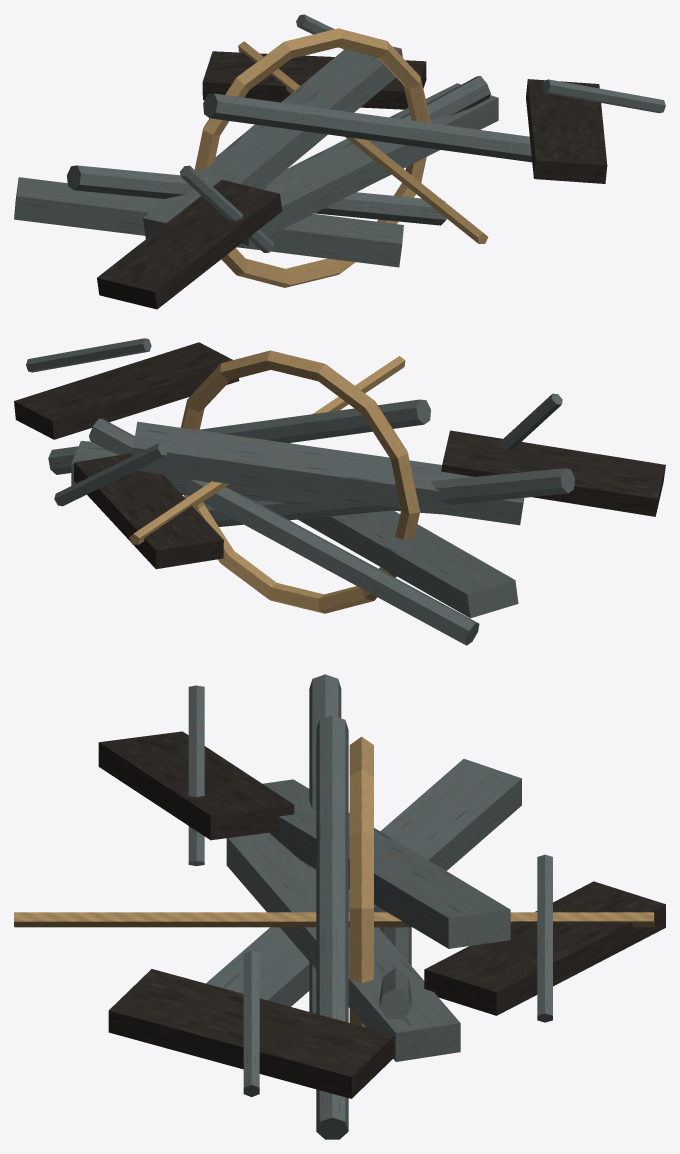
File: pr-012_scrap_metal_bundle__small.obj
The picture shows the model from 3 angles, top to bottom: view 1: azimuth 30°, elevation 25°; view 2: azimuth 150°, elevation 25°; view 3: azimuth 270°, elevation 25°; orthographic projection. The views are drawn at different scales.
Parts seen in each view (by area): view 1: pr-012_scrap_metal_bundle__small; view 2: pr-012_scrap_metal_bundle__small; view 3: pr-012_scrap_metal_bundle__small.
Boxes of the visible parts, x1,y1,x2,y2 form: pr-012_scrap_metal_bundle__small: [14, 14, 665, 309]; pr-012_scrap_metal_bundle__small: [14, 338, 665, 645]; pr-012_scrap_metal_bundle__small: [14, 674, 665, 1139].
Size of the model in its own units: 0.9543 by 0.3783 by 0.7109.
Materials: 3 (3 with a texture image).
